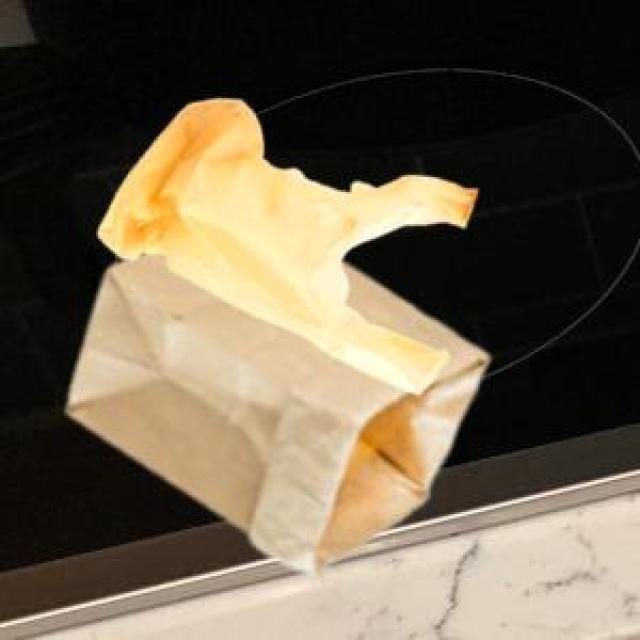paper: (64, 248, 484, 570)
